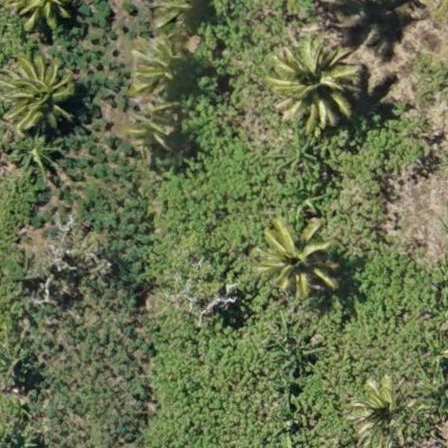palm_tree: (254, 218, 334, 303), (272, 37, 348, 118), (1, 53, 73, 133), (132, 34, 196, 102), (347, 381, 415, 445)
